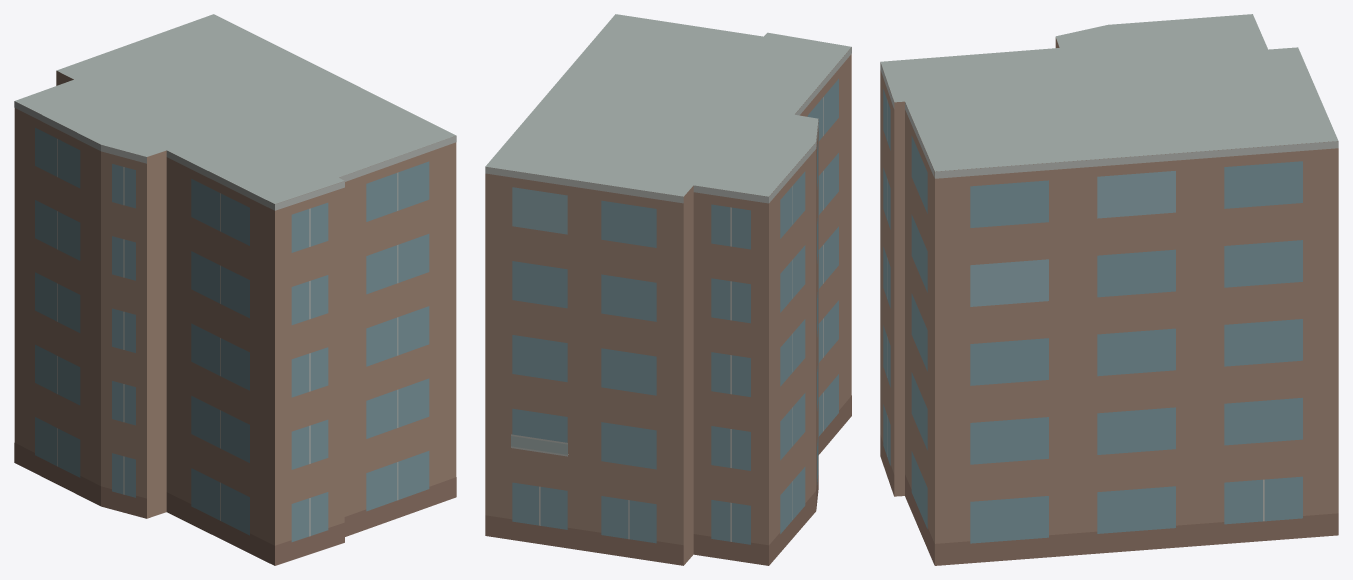
Rendered from survey-upis-32617831.glb.
The picture shows the model from 3 angles, left to right: view 1: azimuth 30°, elevation 25°; view 2: azimuth 150°, elevation 25°; view 3: azimuth 270°, elevation 25°; orthographic projection. The views are drawn at different scales.
Visible parts, largest first — view 1: survey-upis-32617831.tmp; view 2: survey-upis-32617831.tmp; view 3: survey-upis-32617831.tmp.
Boxes of the visible parts, left/top/right/bottom form: survey-upis-32617831.tmp: left=14, top=14, right=456, bottom=565; survey-upis-32617831.tmp: left=485, top=14, right=851, bottom=565; survey-upis-32617831.tmp: left=880, top=14, right=1338, bottom=565.
Bounding box in the file's own units: 11.36 × 13.25 × 13.96.
